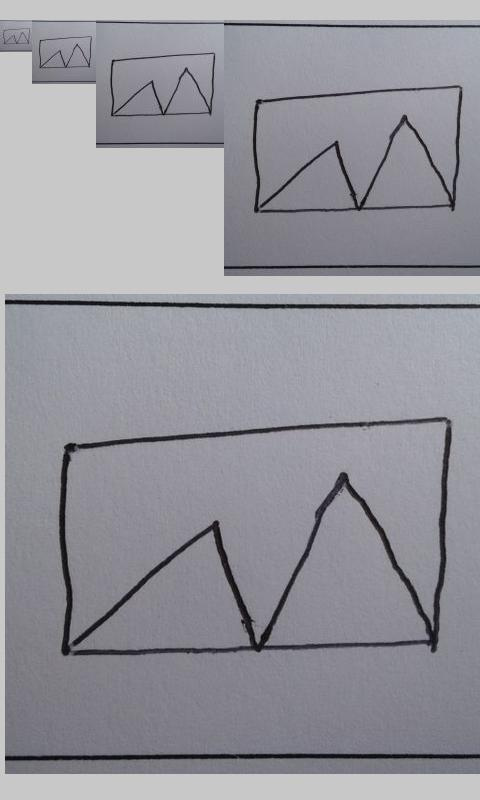image_view: (54, 413, 453, 659), (251, 83, 462, 216), (110, 52, 215, 117), (38, 35, 92, 69), (2, 28, 31, 45)
